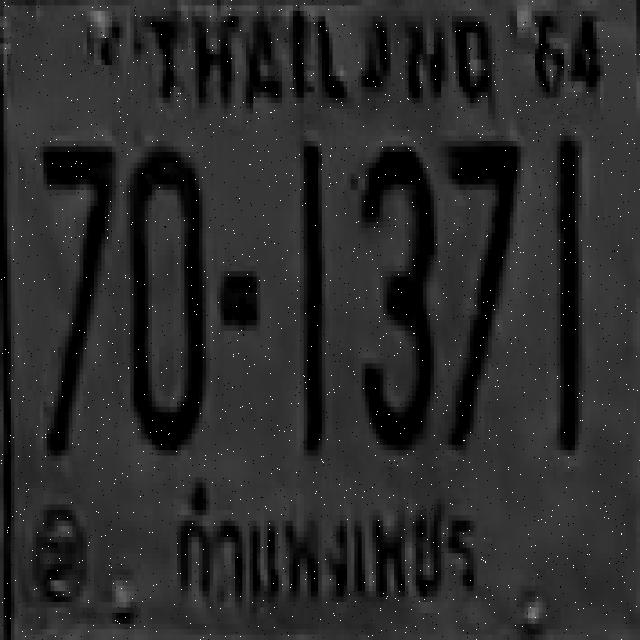0: (126, 141, 202, 445)
1: (552, 136, 580, 440), (298, 136, 324, 440), (553, 133, 579, 415)
3: (358, 141, 434, 445)
7: (42, 141, 114, 445), (445, 136, 517, 440), (42, 141, 114, 347), (445, 135, 517, 331), (42, 141, 114, 325)
KamphaengPhet: (160, 472, 482, 620)
